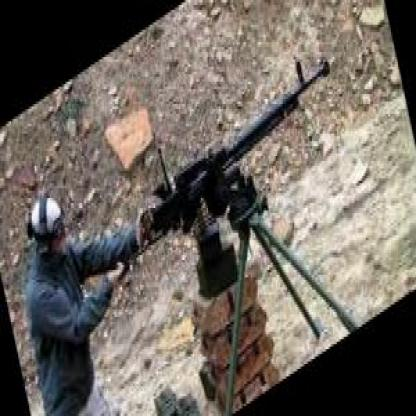rifle: (141, 50, 351, 255)
